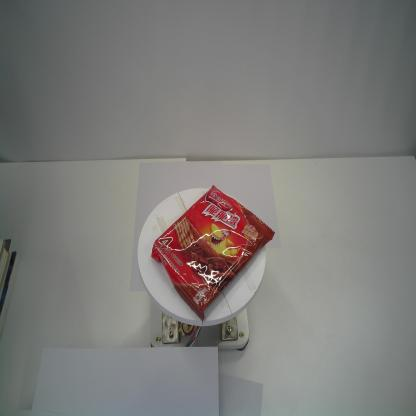Dessert: (150, 184, 277, 325)
